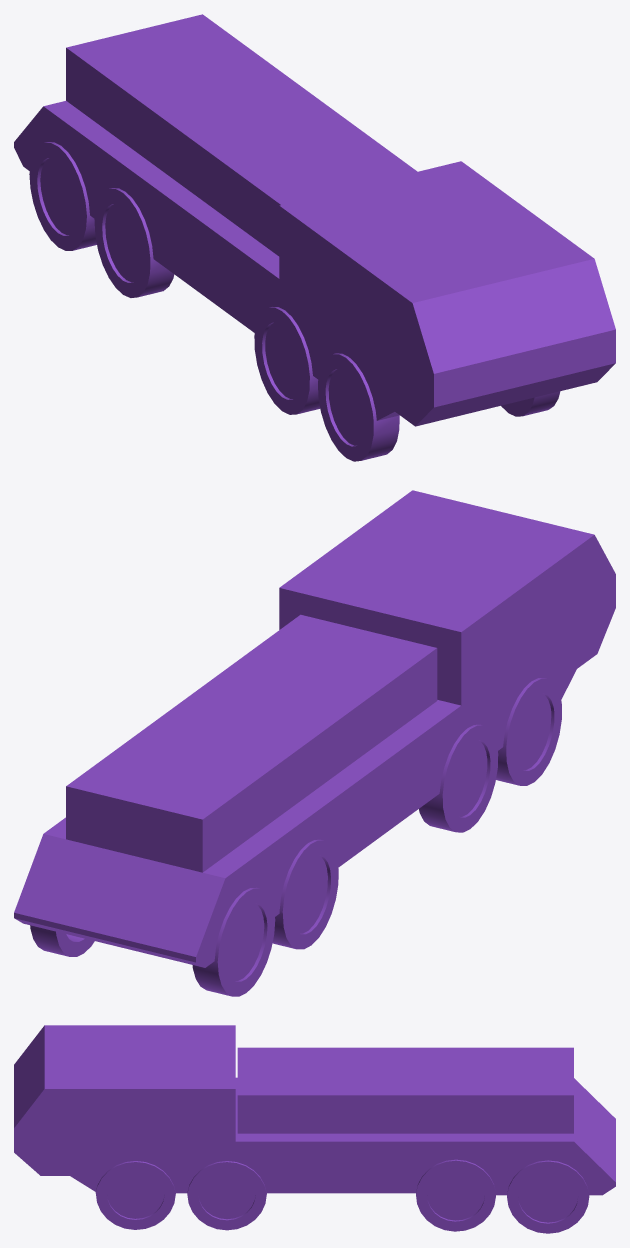
The model's file is Boardgame_Troop_HQ_Token_Purple_01.fbx.
3 renders of one model, top to bottom at view 1: azimuth 30°, elevation 25°; view 2: azimuth 150°, elevation 25°; view 3: azimuth 270°, elevation 25°, orthographic. The views are drawn at different scales.
Parts seen in each view (by area): view 1: Model; view 2: Model; view 3: Model.
Boxes of the visible parts, x1,y1,x2,y2 form: Model: (14, 14, 615, 461); Model: (14, 490, 615, 996); Model: (14, 1025, 615, 1233).
Size of the model in its own units: 142 by 144 by 547.
